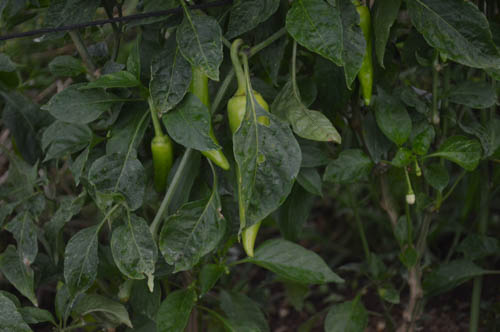ChiliPepper: (228, 92, 258, 251), (187, 69, 224, 167), (351, 10, 373, 105), (150, 136, 172, 190)
